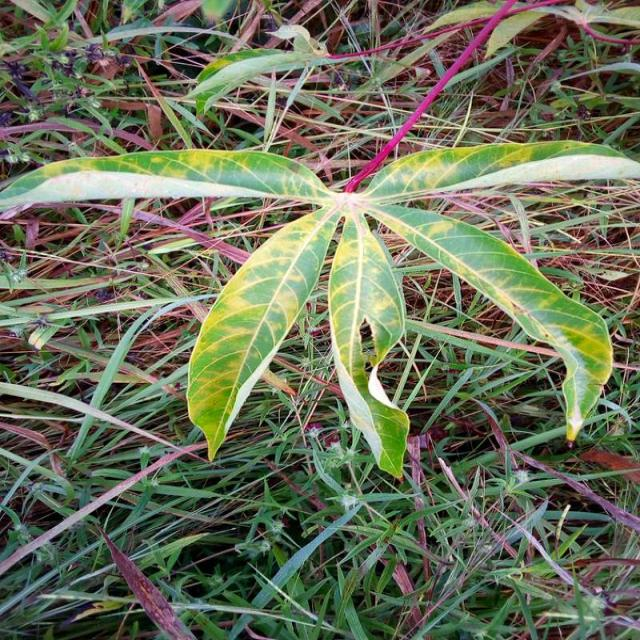cassava leaf: (1, 132, 638, 475), (364, 199, 614, 444), (185, 203, 341, 462), (0, 146, 335, 218), (326, 206, 409, 479), (362, 138, 640, 205)
